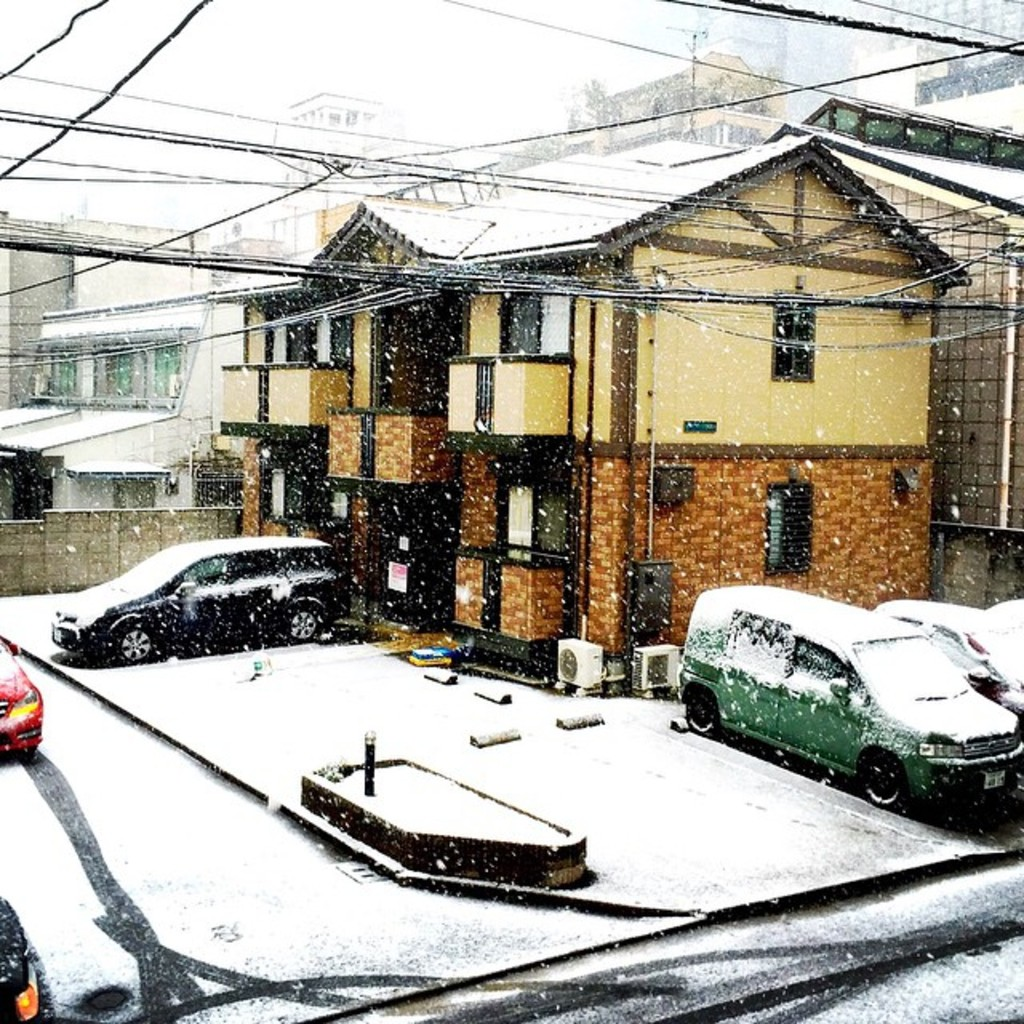Car: (686, 585, 1022, 825), (54, 542, 352, 662), (878, 608, 1022, 702)
